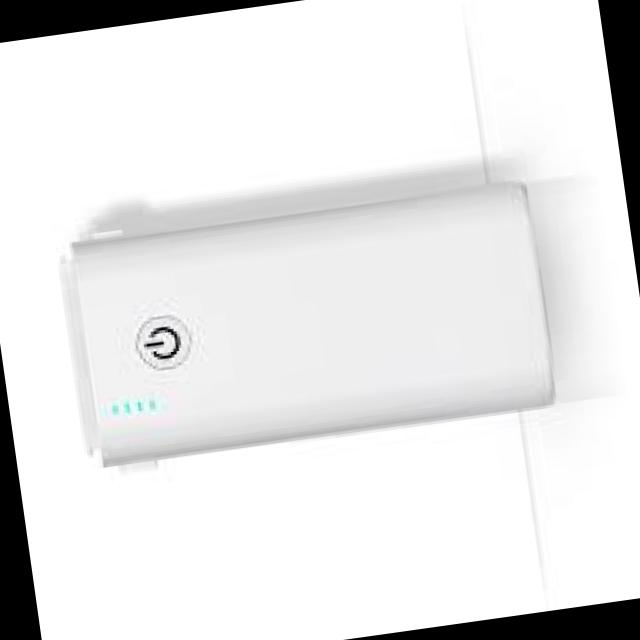power_bank: (46, 169, 570, 482)
